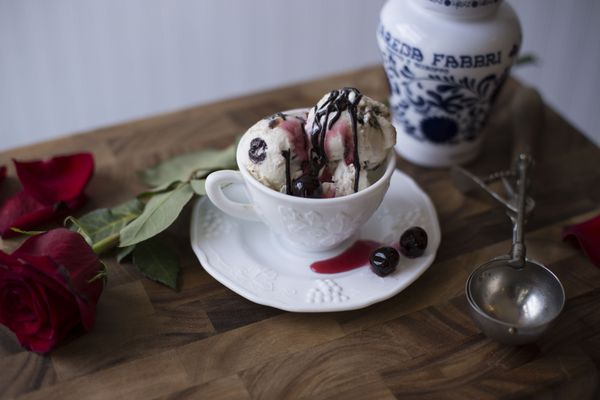pizza: (203, 99, 398, 258), (375, 0, 523, 168)
